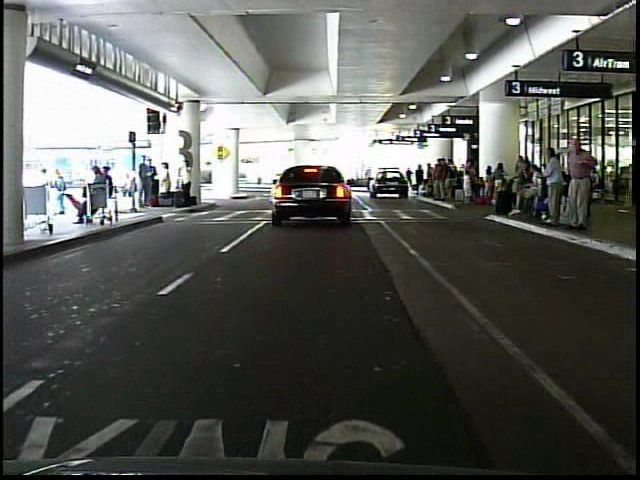person: (560, 134, 600, 235), (540, 145, 565, 228), (42, 162, 64, 219), (179, 158, 194, 204), (162, 160, 176, 205), (415, 160, 427, 197), (406, 160, 415, 194)
